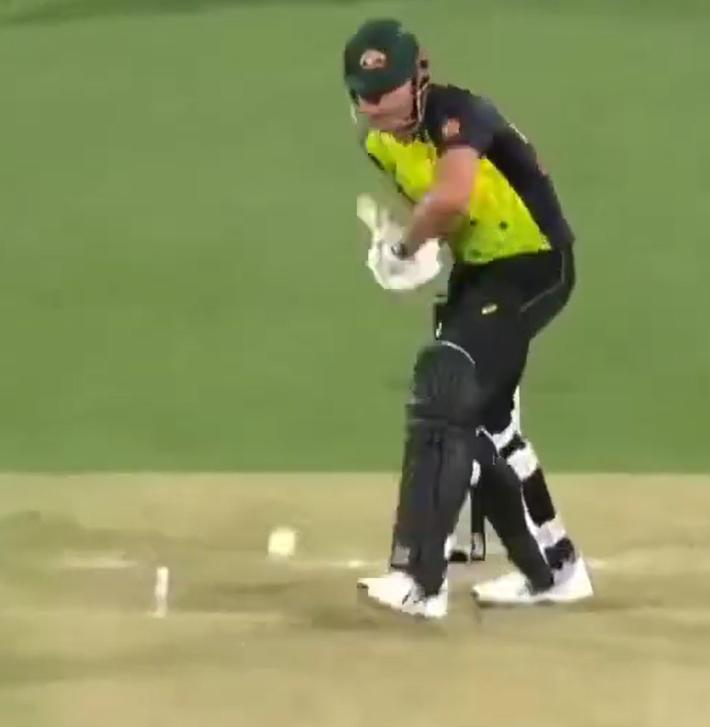batsman: (308, 10, 618, 641)
